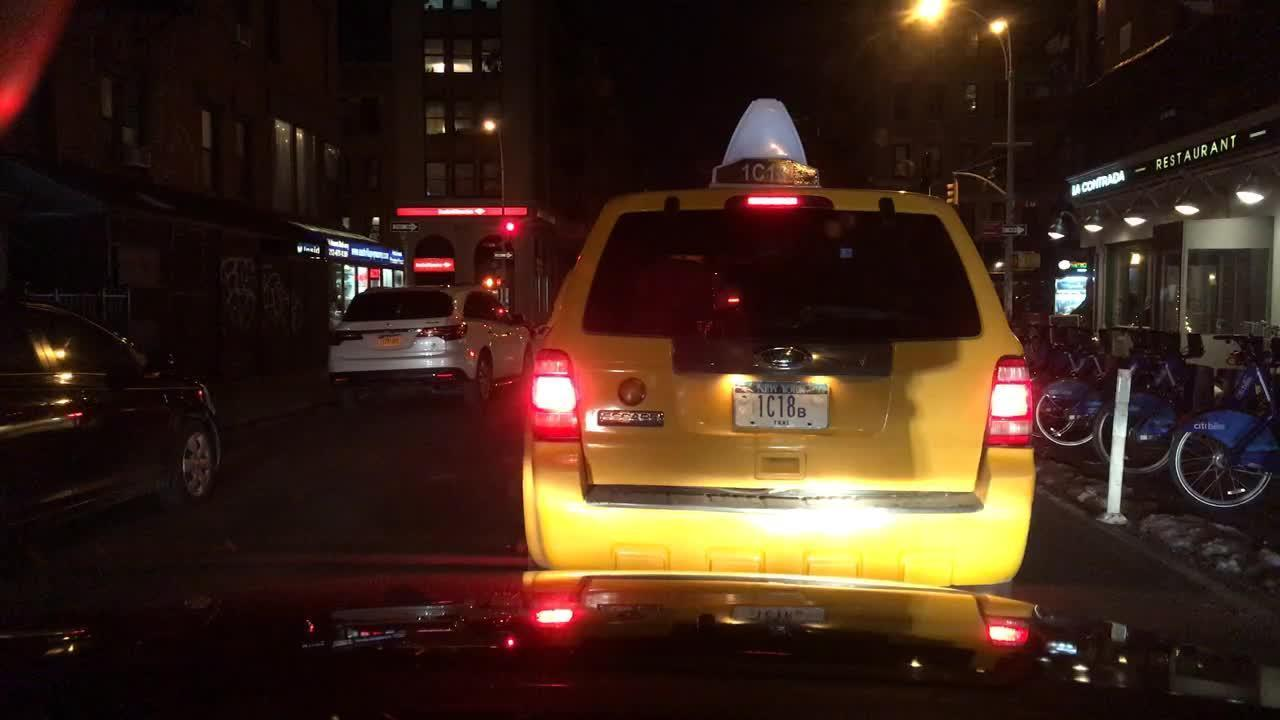ford: (750, 337, 831, 373)
